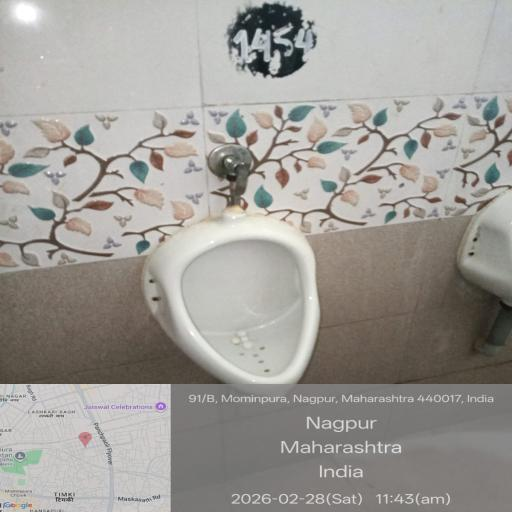clean_floor: (46, 42, 418, 192)
clean_urinal: (131, 212, 371, 402)
partial_dirty_floor: (38, 223, 512, 492)
